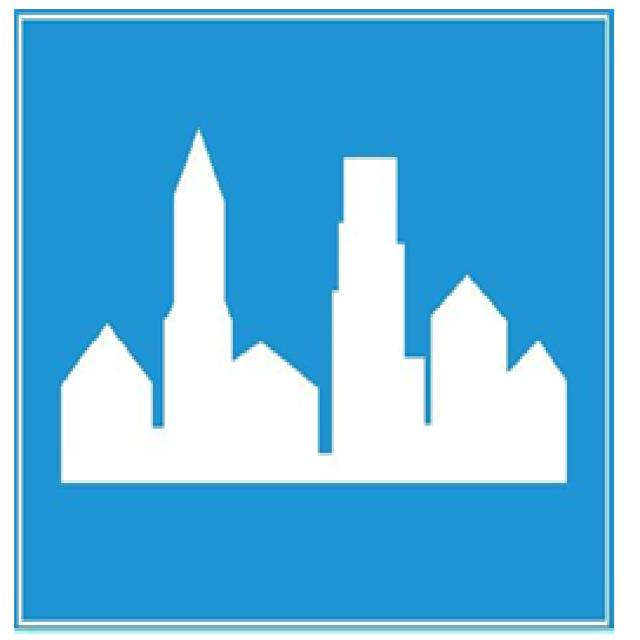Bien hieu lenh bat dau khu dong dan cu: (5, 0, 624, 635)
